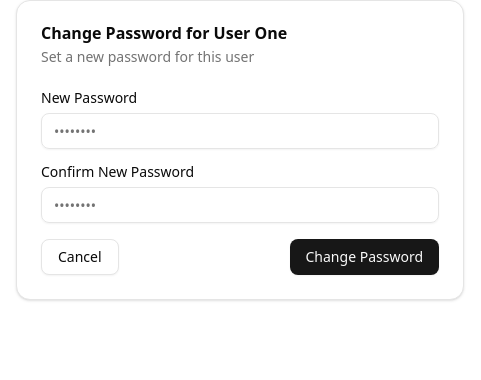
it: ChangeUserPassword › submits the form and shows success
The image size is (481, 380).
In the password field labelled "New Password": (240, 131) [41,113,439,149], type "Password1"
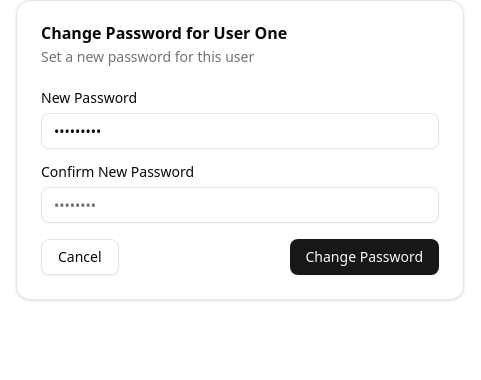
In the password field labelled "Confirm New Password": (240, 205) [41,187,439,223], type "Password1"
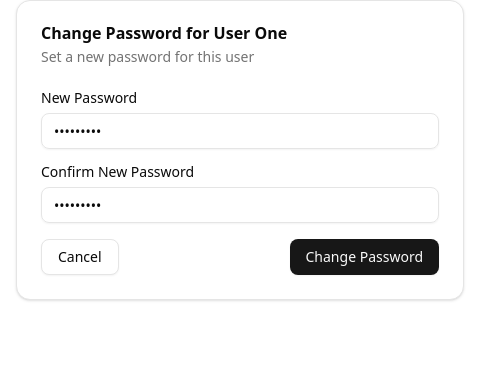
Click the button "Change Password": (364, 257) [290,239,439,275]
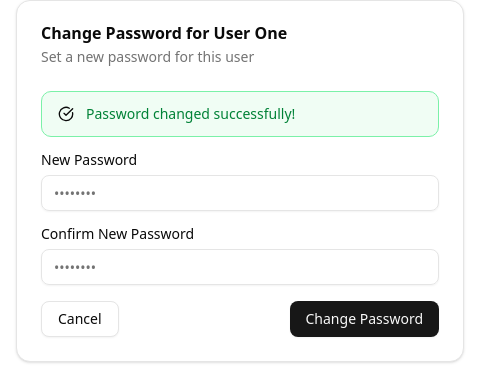
Now the text "Password changed successfully!" is shown, box [86,104,295,123]
